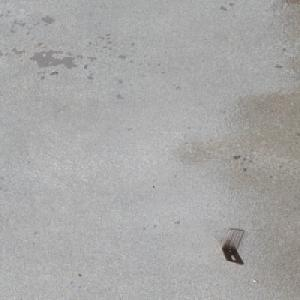MetalPart: (220, 227, 245, 265)
